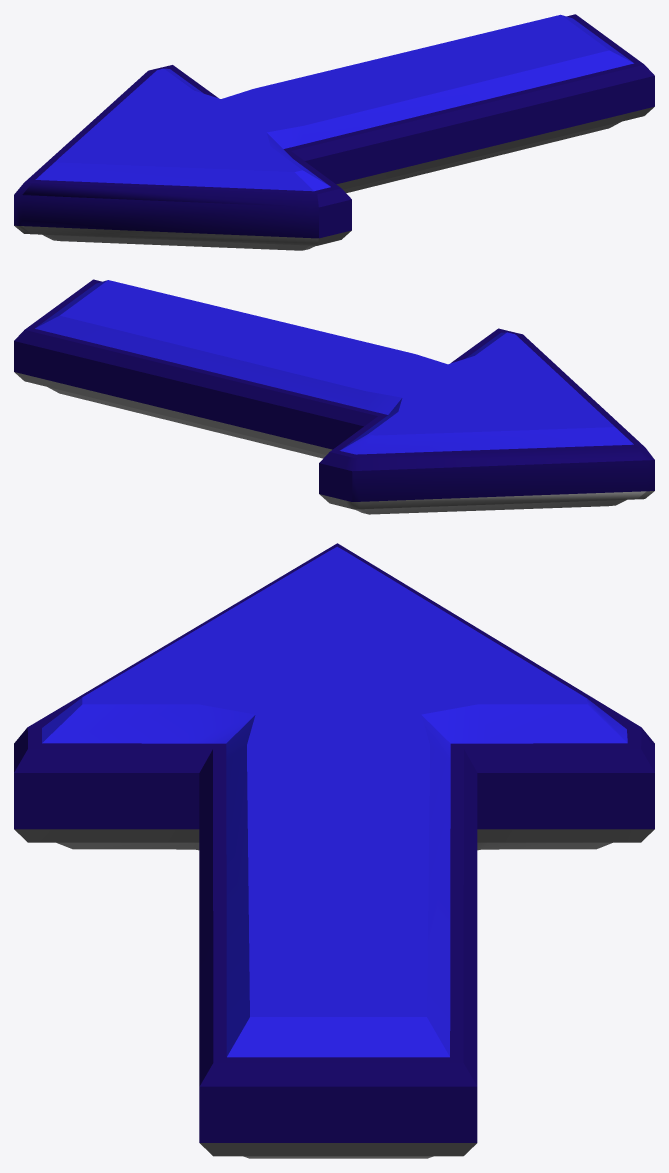
The model's file is fleche.fbx.
The picture shows the model from 3 angles, top to bottom: view 1: azimuth 30°, elevation 25°; view 2: azimuth 150°, elevation 25°; view 3: azimuth 270°, elevation 25°; orthographic projection. The views are drawn at different scales.
Parts seen in each view (by area): view 1: Box002; view 2: Box002; view 3: Box002.
Part boxes in pixels (x1=…): Box002: x1=14, y1=14, x2=654, y2=250; Box002: x1=14, y1=279, x2=654, y2=514; Box002: x1=14, y1=543, x2=654, y2=1158.
Bounding box in the file's own units: 42.38 × 5.24 × 21.48.
